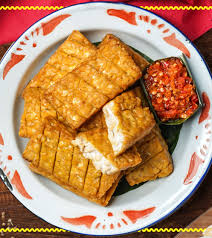Tempe goreng: (44, 33, 145, 132), (22, 115, 116, 205), (103, 85, 156, 154), (124, 123, 176, 187)
